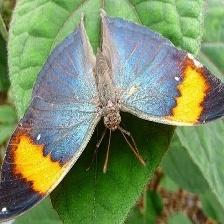butterfly: (0, 9, 224, 218)
